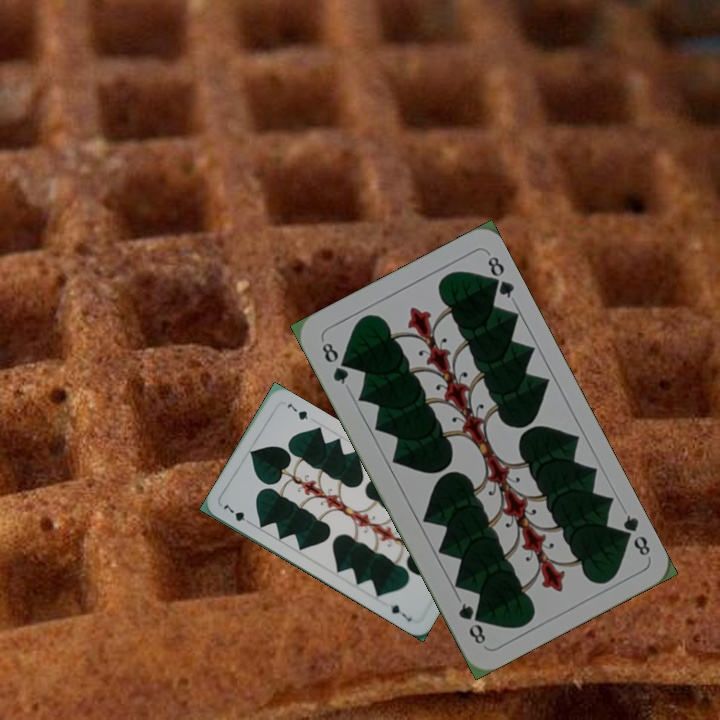G7: (219, 500, 255, 528)
G8: (614, 510, 653, 559), (318, 336, 351, 387)
